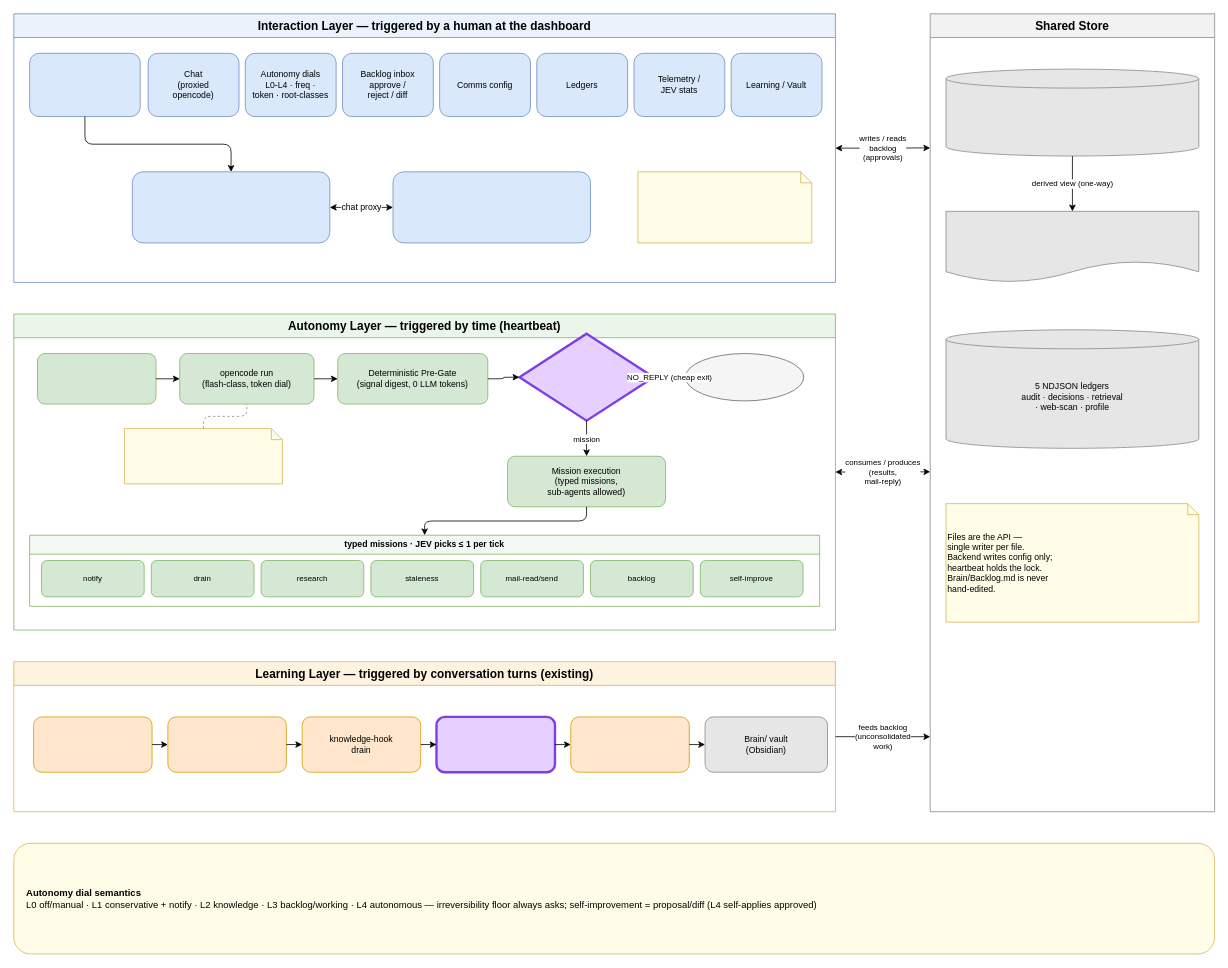
This 1228x968 diagram has some shape labels left out. The centre of each missing label's shape, as x and y in pixels:
backlog.ndjson (source of truth): the point at 1072,112
Brain/Backlog.md (derived view, one-way): the point at 1072,246
Conversation turn: the point at 92,744
Dashboard API (Node/TS) config writes (validated) metrics reads · approvals: the point at 231,207
exit (turn ends): the point at 744,377
Human at Dashboard: the point at 84,85
in-progress lock (one item at a time): the point at 203,456
JEV digest (DeepSeek): the point at 586,376
JEV write gates: the point at 495,744
opencode serve (OpenAPI + SSE): the point at 491,207
rag-brain consolidation: the point at 629,744
retrieval-hook gate: the point at 226,744
single origin, one auth: the point at 724,207
systemd --user timer (frequency dial): the point at 96,378
